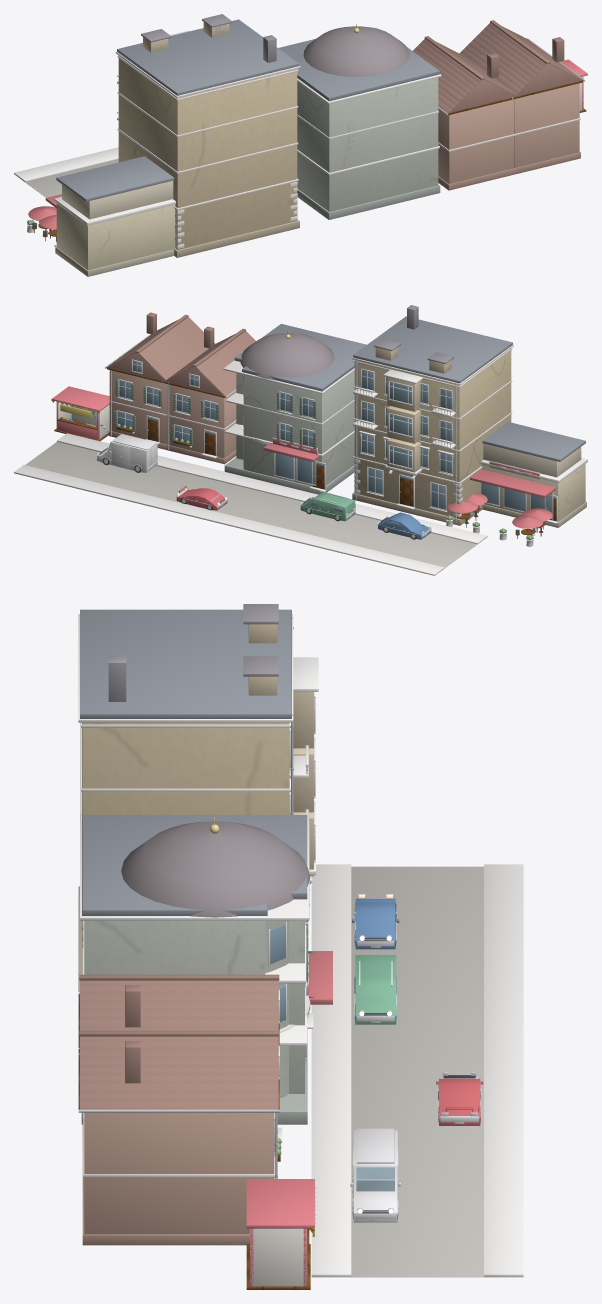
Rendered from th37_strassenzug.glb.
The picture shows the model from 3 angles, top to bottom: view 1: azimuth 30°, elevation 25°; view 2: azimuth 150°, elevation 25°; view 3: azimuth 270°, elevation 25°; orthographic projection. The views are drawn at different scales.
Parts seen in each view (by area): view 1: Cube.004, Cube.260, Cube.261, Cube.180, Cube.629, Cube.403, Cube.516, Turmdach, Cube.632, Cube.330, Cube.631, Cube.331 (+25 smaller); view 2: Cube, Cube.004, Cube.260, Cube.180, Cube.002, Cube.001, Turmdach, Cube.403, Cube.632, Cube.516, Cube.330, Cube.629 (+31 smaller); view 3: Cube, Cube.516, Cube.180, Cube.004, Cube.002, Cube.001, Turmdach, Cube.261, Cube.331, Cube.330, Cube.944, Cube.941 (+36 smaller).
Part boxes in pixels (box(x1,y1,x2,y2)): Cube.004: box(118, 56, 297, 249); Cube.260: box(297, 81, 418, 211); Cube.261: box(311, 77, 438, 211); Cube.180: box(117, 19, 298, 95); Cube.629: box(56, 204, 175, 270); Cube.403: box(438, 99, 514, 183); Cube.516: box(514, 83, 579, 168); Turmdach: box(303, 26, 409, 76); Cube.632: box(56, 156, 174, 201); Cube.330: box(278, 39, 420, 101); Cube.631: box(62, 180, 173, 219); Cube.331: box(290, 47, 439, 100); Cube: box(25, 441, 478, 568); Cube.004: box(354, 349, 511, 518); Cube.260: box(243, 371, 354, 486); Cube.180: box(353, 316, 512, 383); Cube.002: box(14, 465, 444, 575); Cube.001: box(57, 433, 487, 544); Turmdach: box(240, 333, 334, 380); Cube.403: box(167, 384, 236, 458); Cube.632: box(482, 422, 585, 461); Cube.516: box(109, 370, 167, 444); Cube.330: box(242, 328, 365, 391); Cube.629: box(481, 464, 585, 521); Cube: box(347, 866, 483, 1277); Cube.516: box(84, 1112, 274, 1234); Cube.180: box(80, 609, 291, 718); Cube.004: box(82, 722, 289, 941); Cube.002: box(484, 864, 523, 1277); Cube.001: box(311, 864, 351, 1277); Turmdach: box(121, 821, 310, 917); Cube.261: box(84, 920, 265, 974); Cube.331: box(82, 815, 267, 915); Cube.330: box(82, 815, 307, 899); Cube.944: box(246, 1179, 314, 1228); Cube.941: box(250, 1228, 306, 1286).
Bounding box in the file's own units: 50.39 × 16.4 × 20.17.
Materials: 111 (9 with a texture image).
